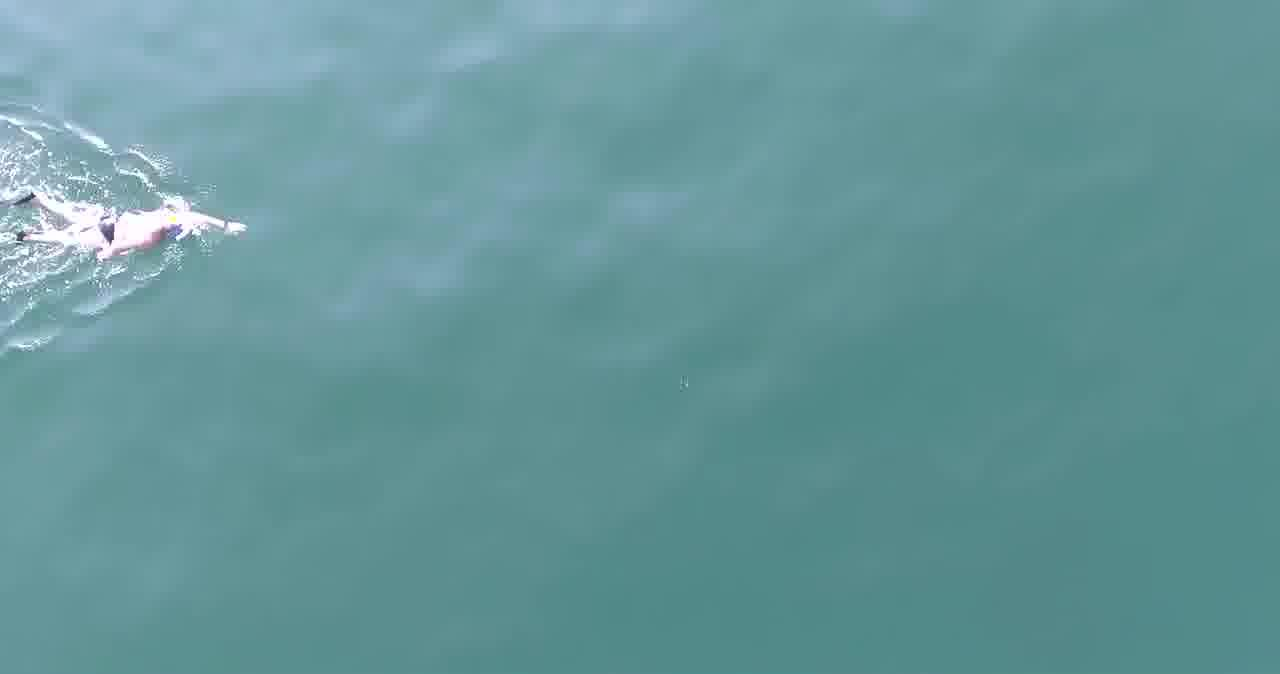swimmer: (126, 194, 214, 244)
